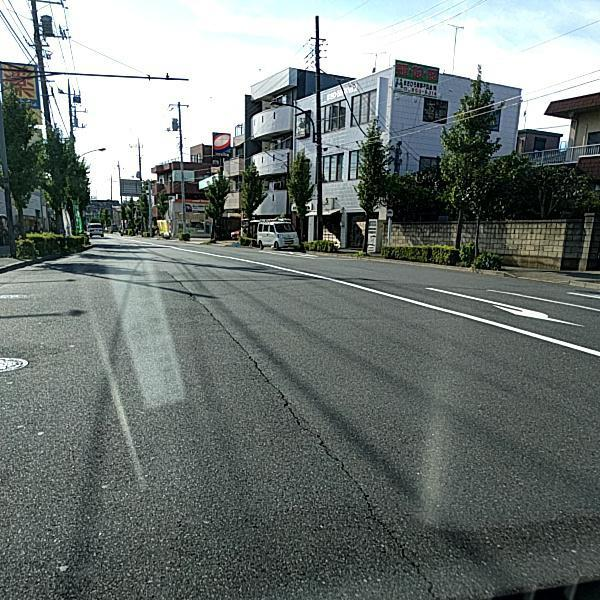D50: (0, 354, 26, 373)
